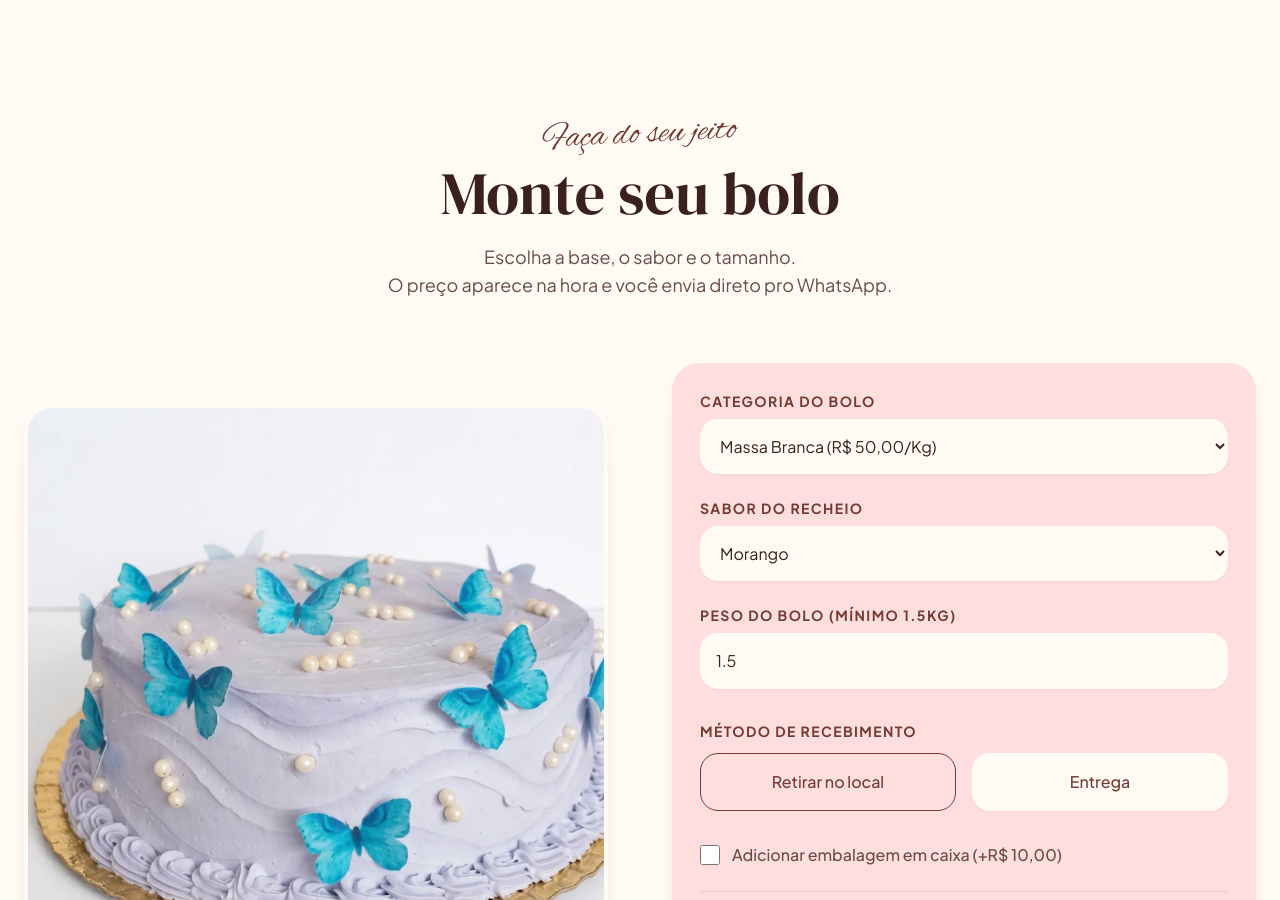
Test case: OrderForm › deve calcular o preço corretamente ao alterar categoria, peso e embalagem
Note: Altera a categoria para Massa Chocolate (R$60/kg)
Select "Massa Chocolate (R$ 60,00/Kg)" in the dropdown labelled "Categoria do Bolo" at (964, 447), box x1=700 y1=419 x2=1228 y2=474
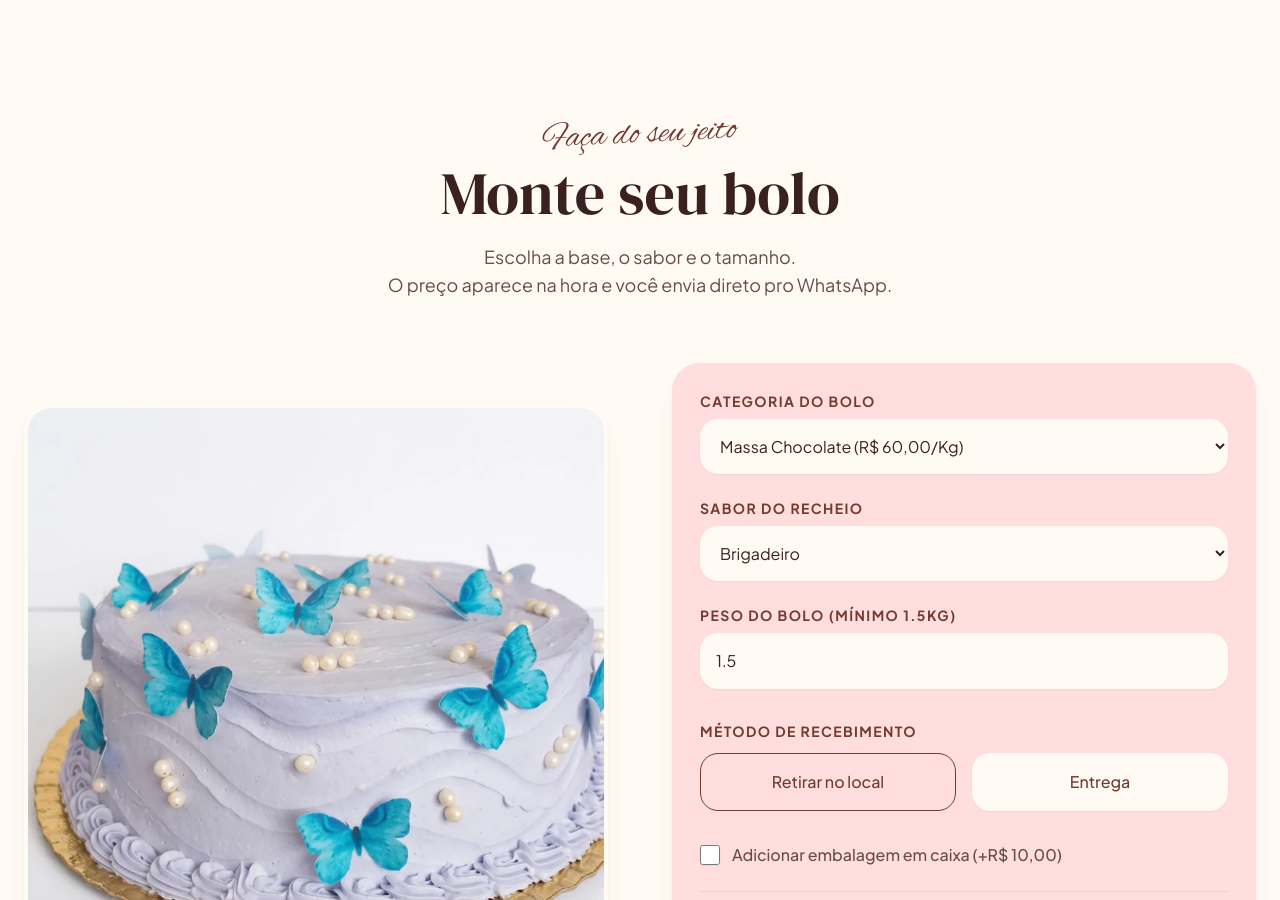
Note: Altera o peso para 2.5kg
Replace the text in the number field labelled "Peso do Bolo (Mínimo 1.5kg)" with "2.5" at (964, 661), box x1=700 y1=633 x2=1228 y2=689
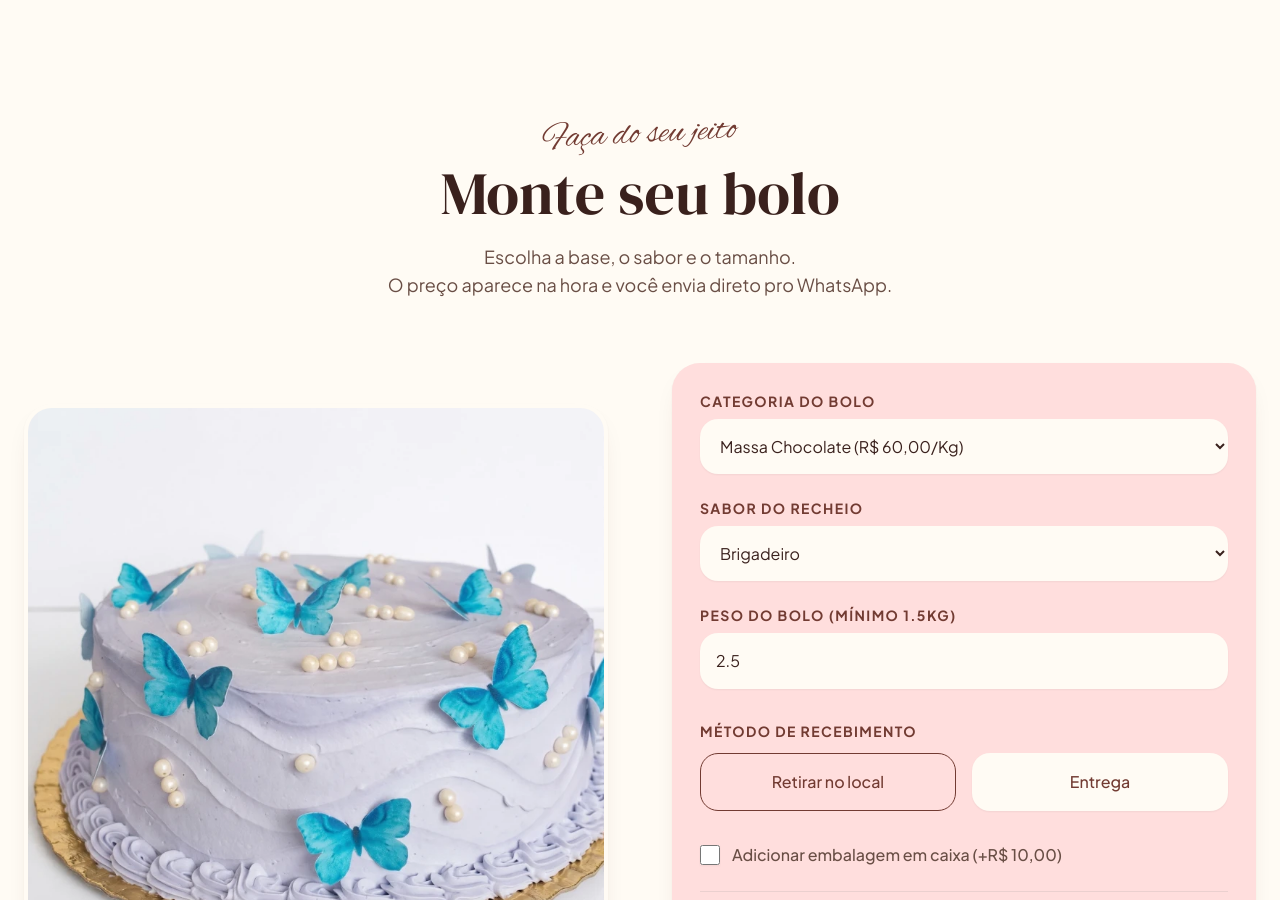
Click the checkbox labelled "Adicionar embalagem em caixa (+R$ 10,00)".
click(710, 855)  # box x1=700 y1=845 x2=720 y2=865
(page scrolled)
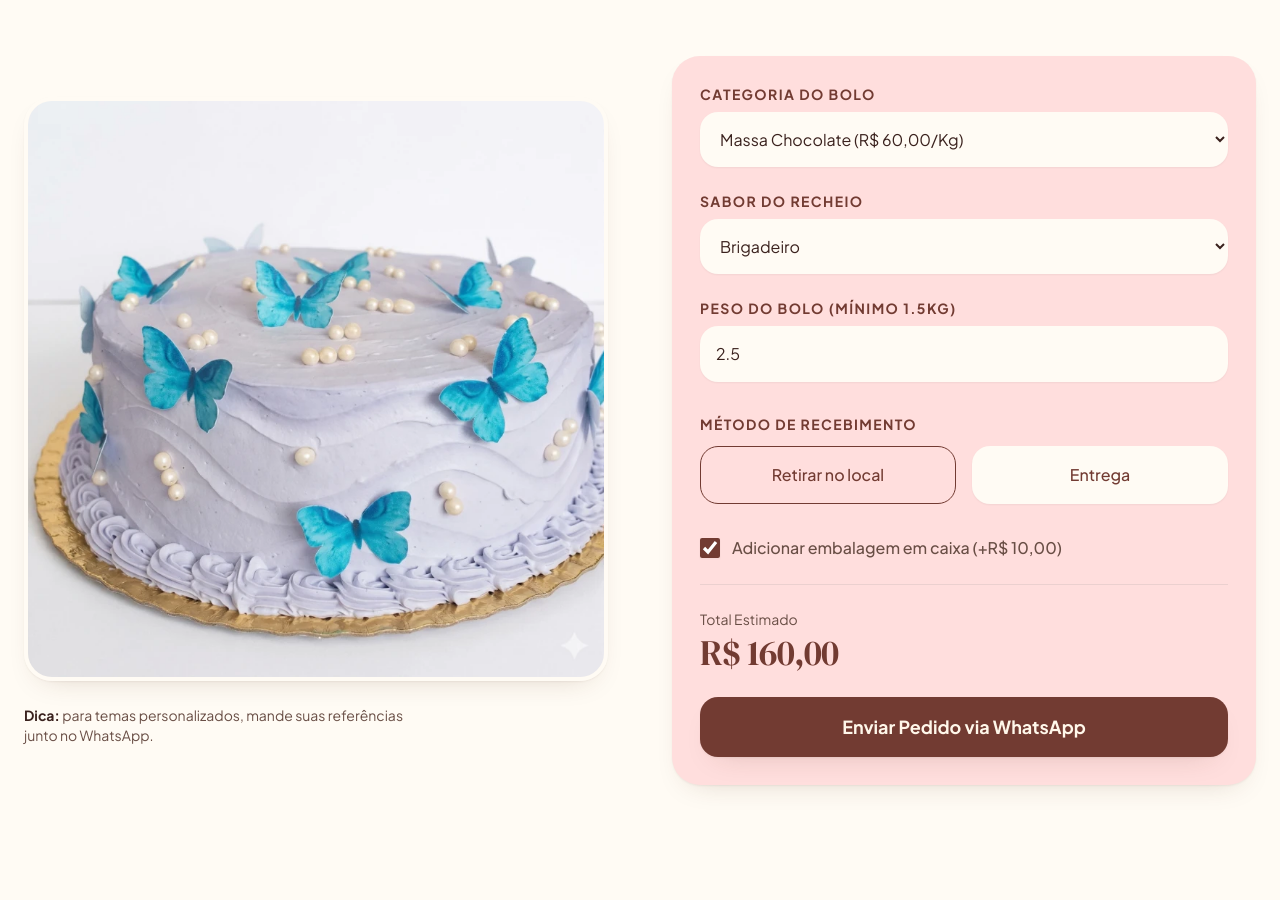
Now the text "R$ 160,00" is shown, box x1=700 y1=628 x2=838 y2=677
